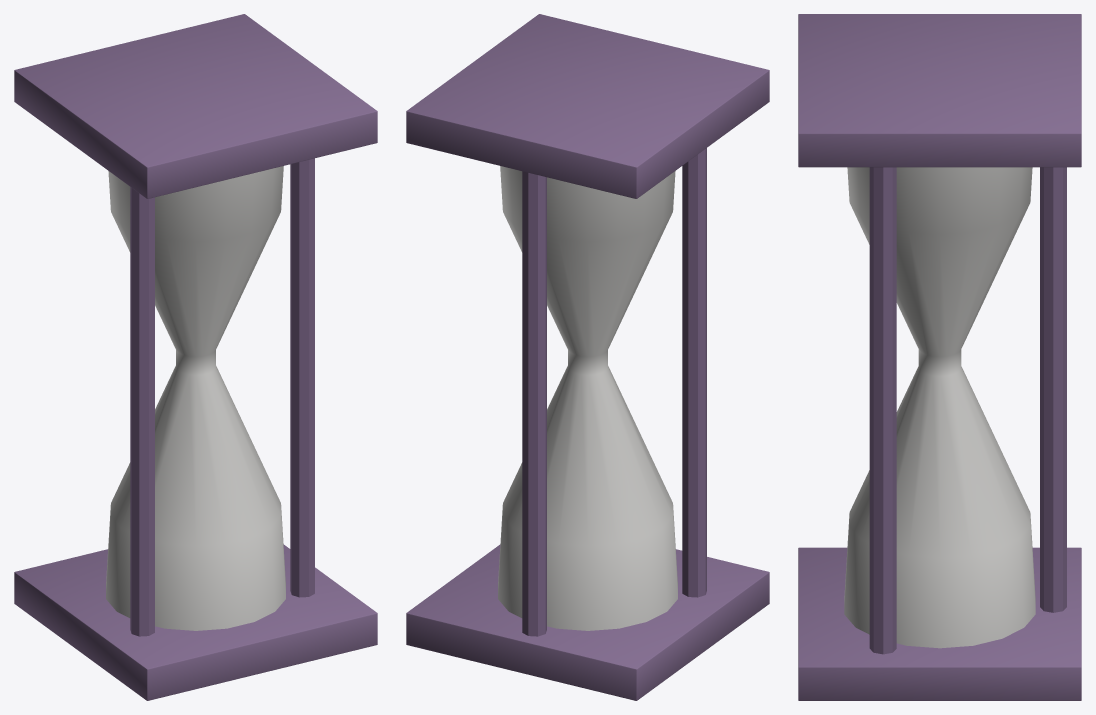
File: perk_quickhands.gltf
The picture shows the model from 3 angles, left to right: view 1: azimuth 30°, elevation 25°; view 2: azimuth 150°, elevation 25°; view 3: azimuth 270°, elevation 25°; orthographic projection. The views are drawn at different scales.
Parts seen in each view (by area): view 1: Body, Glow; view 2: Body, Glow; view 3: Body, Glow.
Part boxes in pixels (x1,y1,x2,y2): Body: (14, 14, 377, 700); Glow: (106, 166, 285, 630); Body: (406, 14, 769, 700); Glow: (498, 166, 677, 630); Body: (798, 14, 1081, 700); Glow: (844, 167, 1035, 648).
Bounding box in the file's own units: 1.05 × 2.32 × 1.05.
